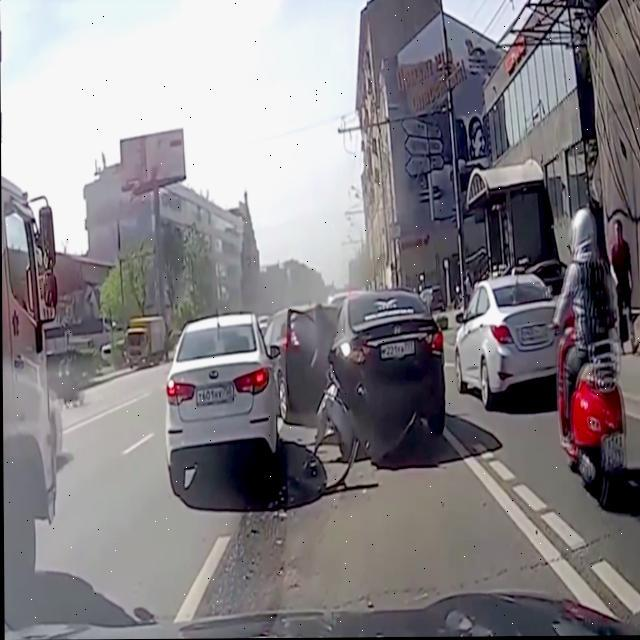multiple_accident: (135, 218, 472, 510)
